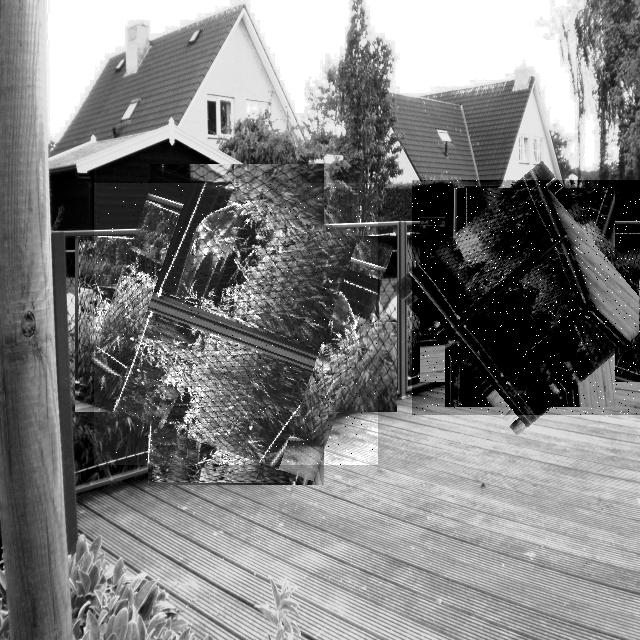fences: (94, 183, 378, 465), (412, 180, 640, 415)
